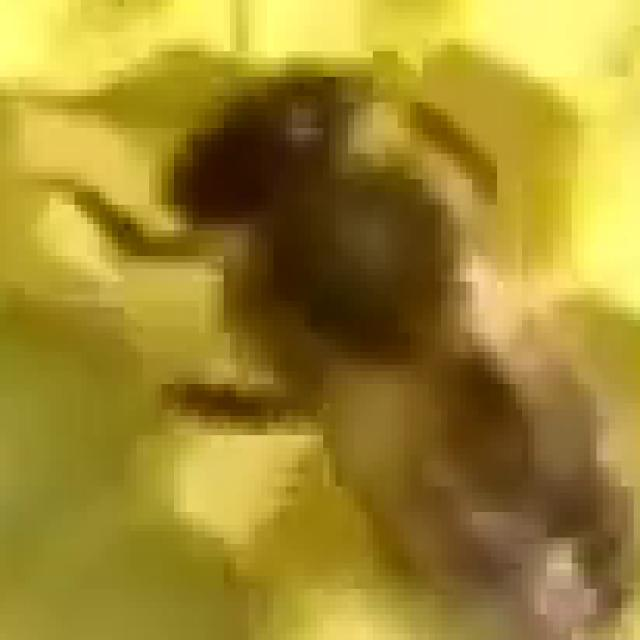honeybee: (88, 83, 605, 582)
